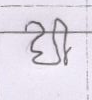i_matra: (55, 18, 72, 65)
